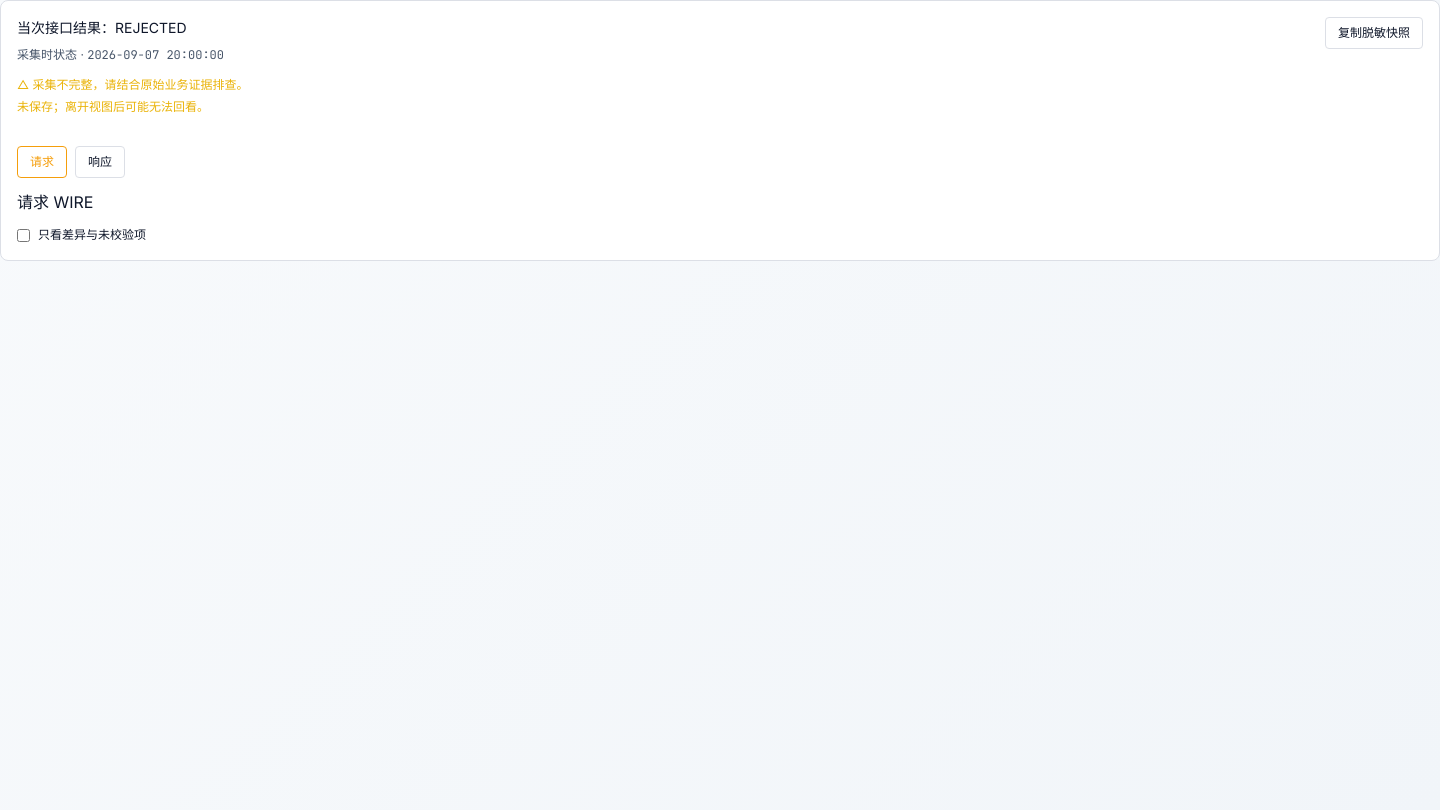
WMS 当次交互详情 › 切换请求和响应，明确历史快照与未保存边界
This screenshot has width=1440, height=810.
Click the button "响应": (100, 162) [75,146,125,178]
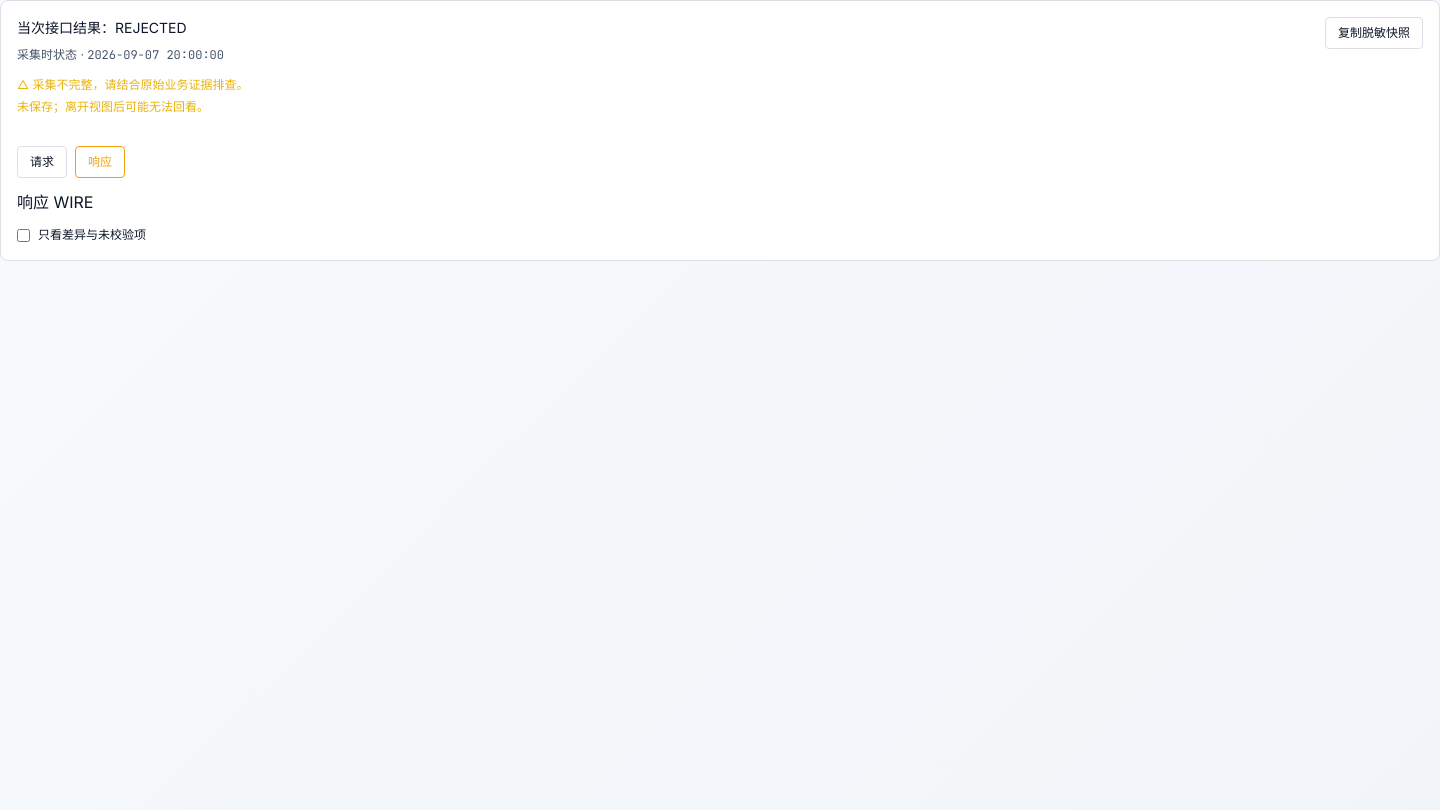
Result: the text "响应 WIRE" is shown at [17,192,94,212]
Result: the text "请求 WIRE" is gone
